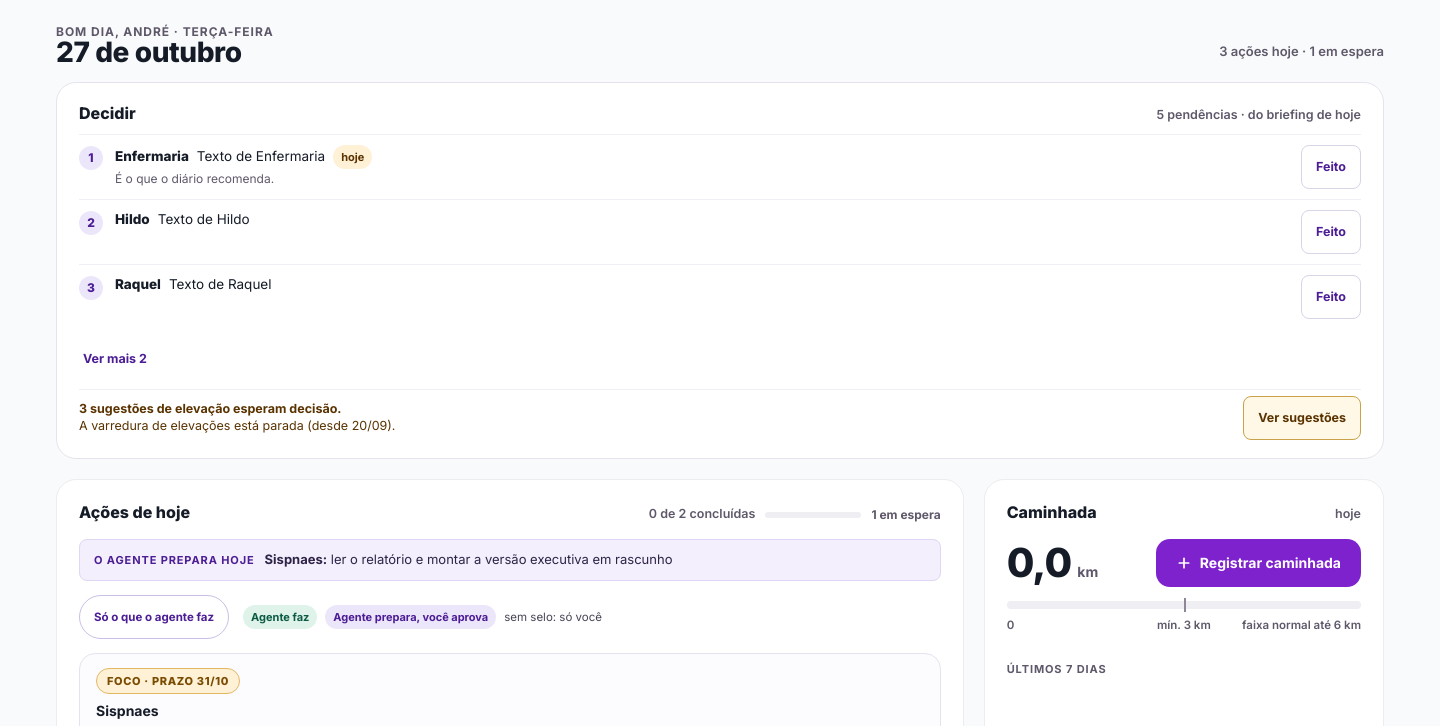
Test: Painel do dia — com briefing_dia › mostra Decidir com 3 linhas, "Ver mais 2" abre o resto
The width and height of the screenshot is (1440, 726).
Expected: the number of list items with test id "linha-decidir" is 3, [79,134,1361,199]; [79,199,1361,264]; [79,264,1361,329]
Click the button "Ver mais 2": (115, 359) [79,337,151,381]
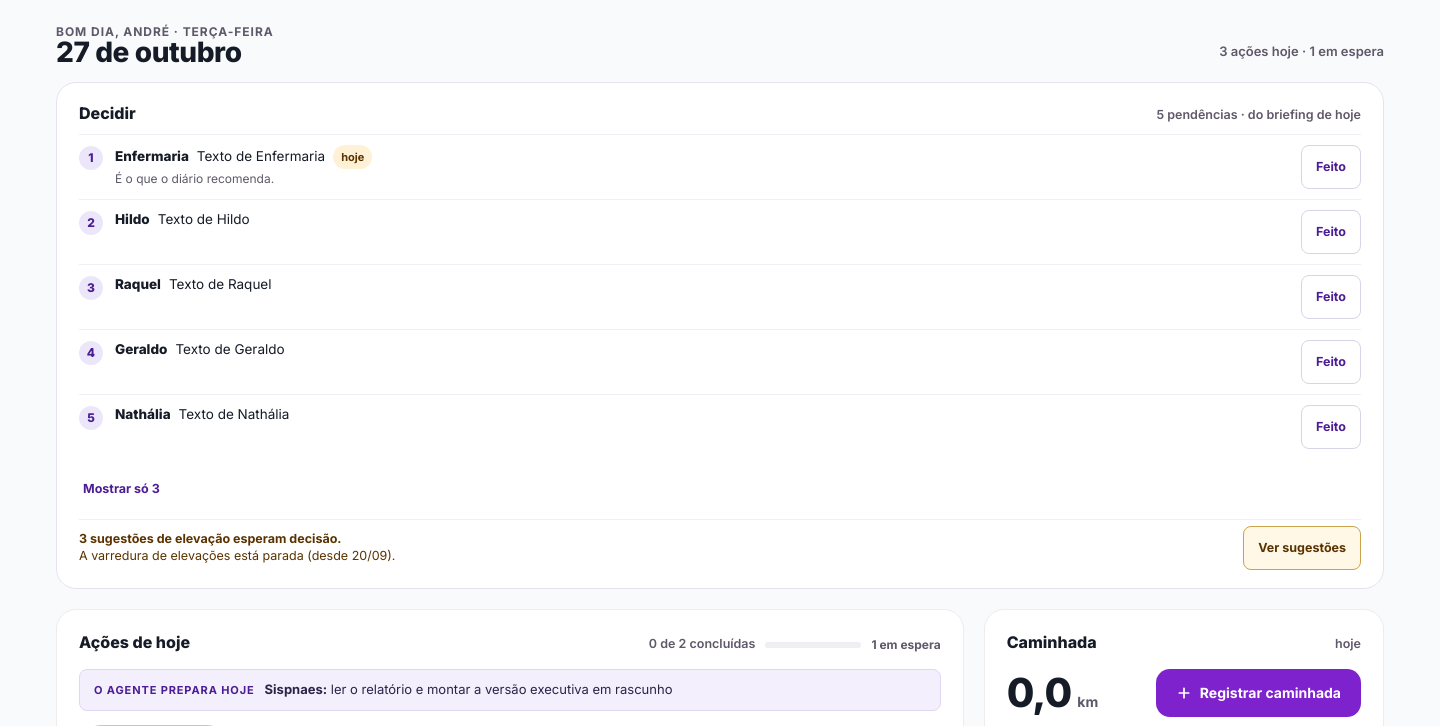
Expected: the text "5 pendências · do briefing de hoje" is shown, [1156,106,1361,126]
Now the number of list items with test id "linha-decidir" is 5, box [79,134,1361,199]; [79,199,1361,264]; [79,264,1361,329]; [79,329,1361,394]; [79,394,1361,459]
Now the button "Mostrar só 3" is expanded, box [79,467,164,511]
